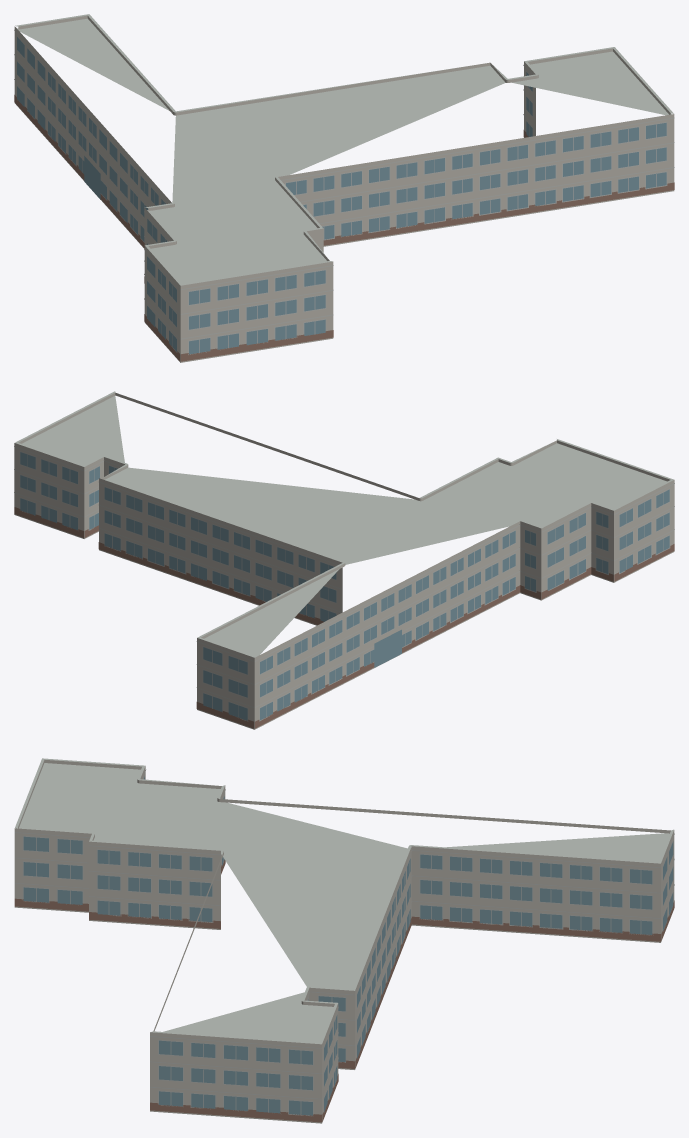
The model's file is public-d3694e8d-ae55-46f4-bc6d-19e795086c31.glb.
The picture shows the model from 3 angles, top to bottom: view 1: azimuth 30°, elevation 25°; view 2: azimuth 150°, elevation 25°; view 3: azimuth 270°, elevation 25°; orthographic projection. The views are drawn at different scales.
Parts seen in each view (by area): view 1: public-d3694e8d-ae55-46f4-bc6d-19e795086c31; view 2: public-d3694e8d-ae55-46f4-bc6d-19e795086c31; view 3: public-d3694e8d-ae55-46f4-bc6d-19e795086c31.
Boxes of the visible parts, bbox=[...] form: public-d3694e8d-ae55-46f4-bc6d-19e795086c31: bbox=[14, 14, 674, 362]; public-d3694e8d-ae55-46f4-bc6d-19e795086c31: bbox=[14, 391, 674, 729]; public-d3694e8d-ae55-46f4-bc6d-19e795086c31: bbox=[14, 758, 674, 1123].
Bounding box in the file's own units: 70.9 × 9.15 × 69.13.
